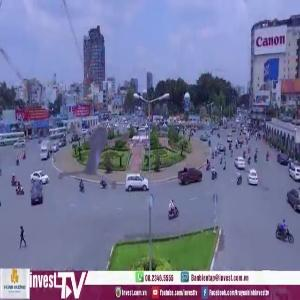drone: (40, 90, 158, 208)
